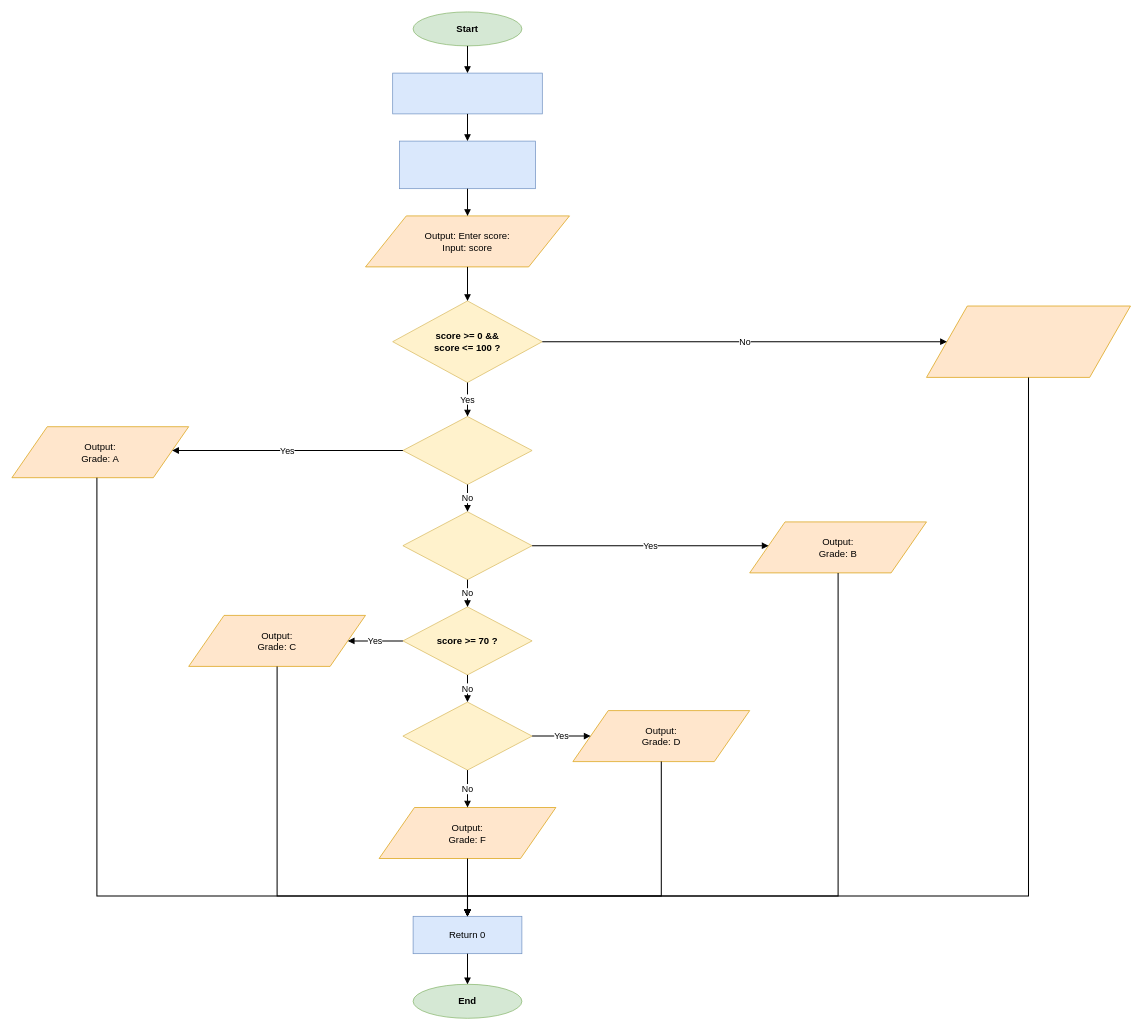
Image size: 1142x1030. Some labels were removed from this diagram. Each missing label, with the centre of its shape:
Declare variable: int score: point (467, 164)
Enter main() function: point (467, 93)
Output: Invalid score. Please enter a score between 0 and 100.: point (1028, 341)
score >= 60 ?: point (467, 735)
score >= 80 ?: point (467, 545)
score >= 90 ?: point (467, 450)
